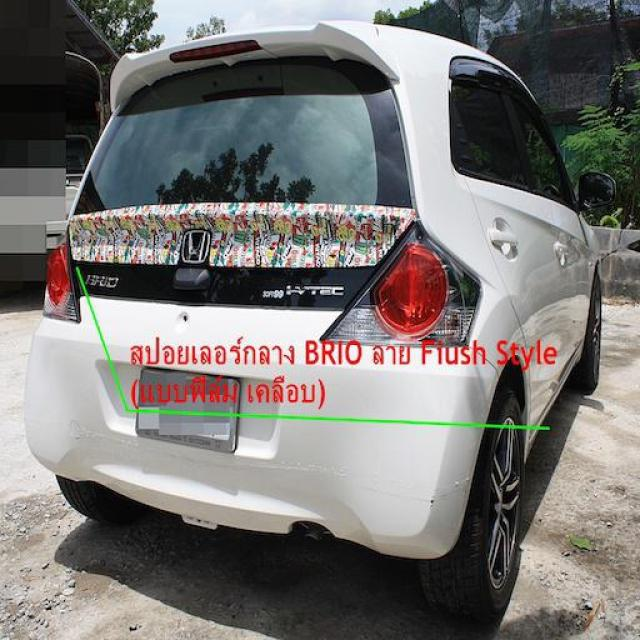back_bumper: (23, 316, 500, 559)
back_glass: (72, 55, 416, 216)
back_left_light: (42, 231, 80, 324)
back_right_door: (450, 56, 560, 436)
back_right_light: (317, 221, 486, 350)
front_right_door: (499, 67, 587, 375)
right_mirror: (579, 170, 617, 212)
tailgate: (72, 201, 416, 346)
wheel: (419, 387, 525, 617), (569, 272, 603, 394), (55, 475, 136, 521)
